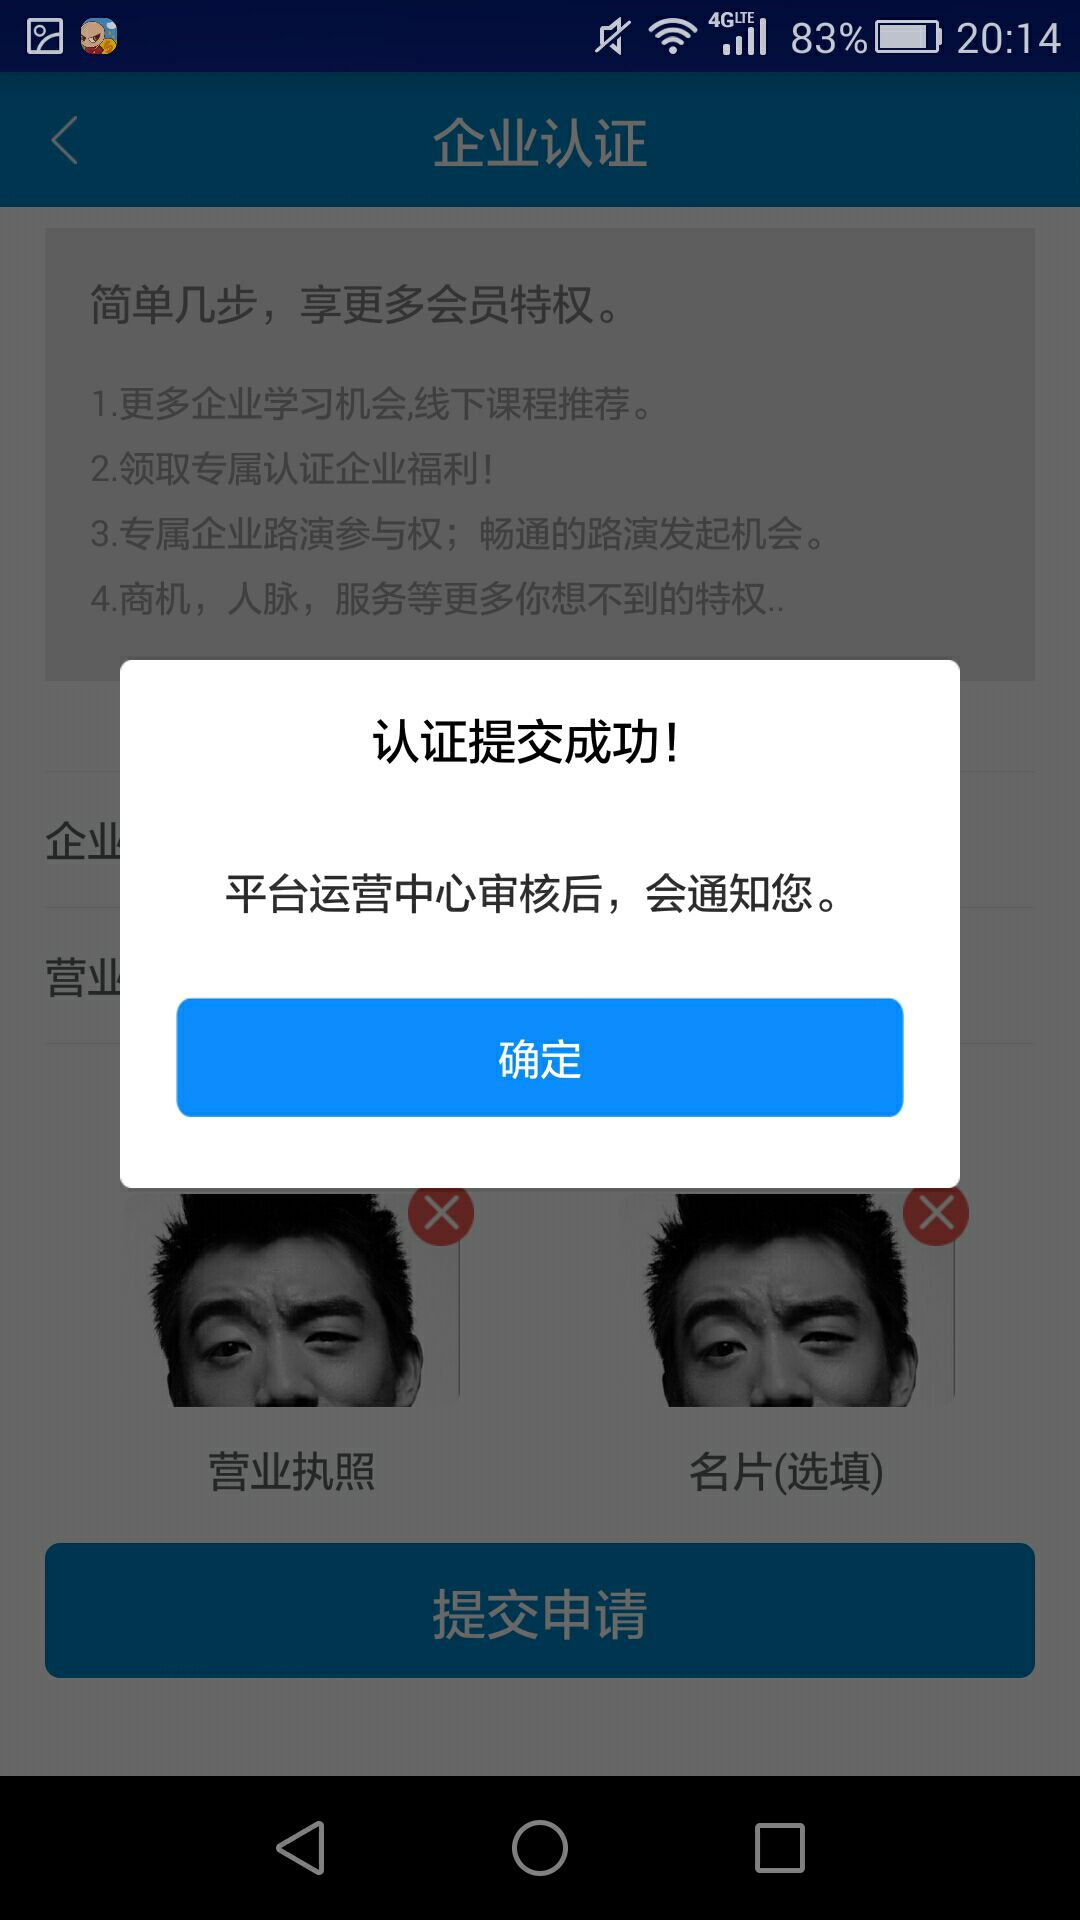alert: (104, 657, 982, 1211)
button: (164, 984, 913, 1139)
textview: (196, 853, 857, 945), (343, 694, 694, 790)
